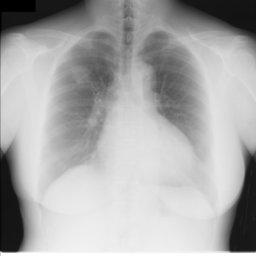left lobe: (140, 31, 204, 158)
trachea: (124, 0, 133, 44)
